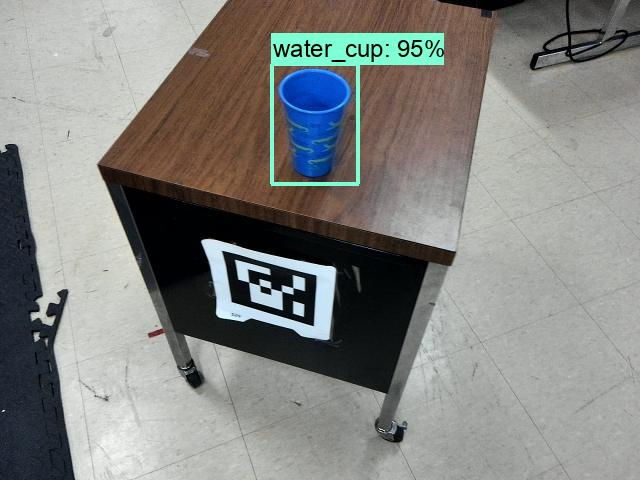water_cup: (262, 65, 360, 182)
